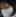with_mask: (1, 2, 16, 17)
